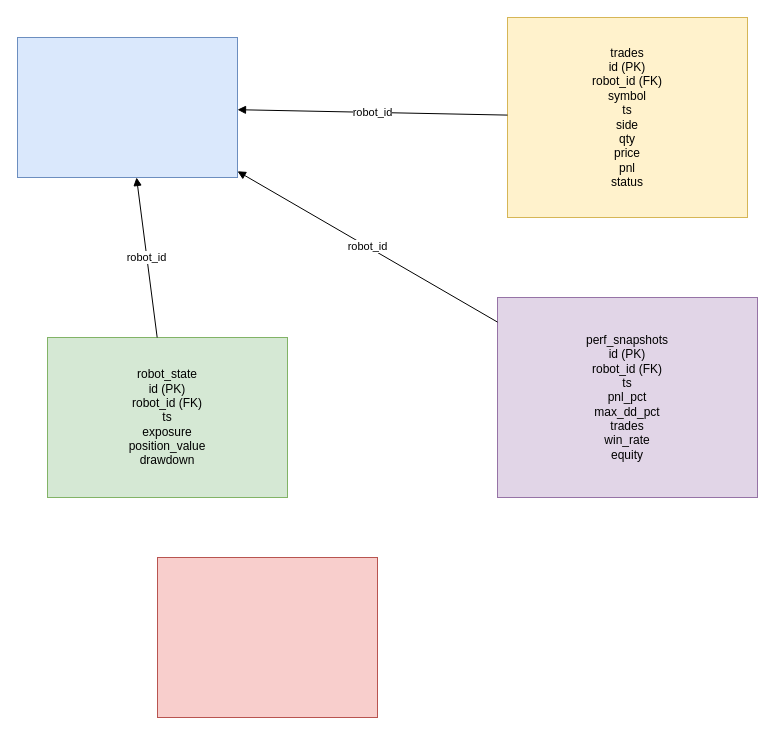
Some shapes in this 775 by 735 pixel diagram are drawn without their labels. Each missing label, with the centre of its shape:
"robots id (PK) name strategy status created_at" goes at (x=127, y=107).
"ticks id (PK) symbol ts bid ask spread source" goes at (x=267, y=637).
